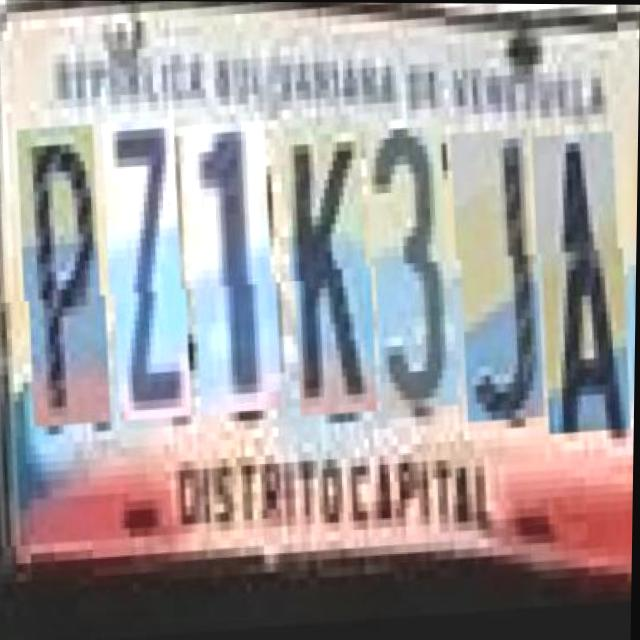1: (183, 124, 280, 419)
3: (362, 124, 456, 417)
a: (530, 141, 628, 444)
j: (449, 137, 543, 430)
k: (282, 129, 376, 422)
p: (16, 126, 110, 429)
z: (102, 121, 190, 425)
